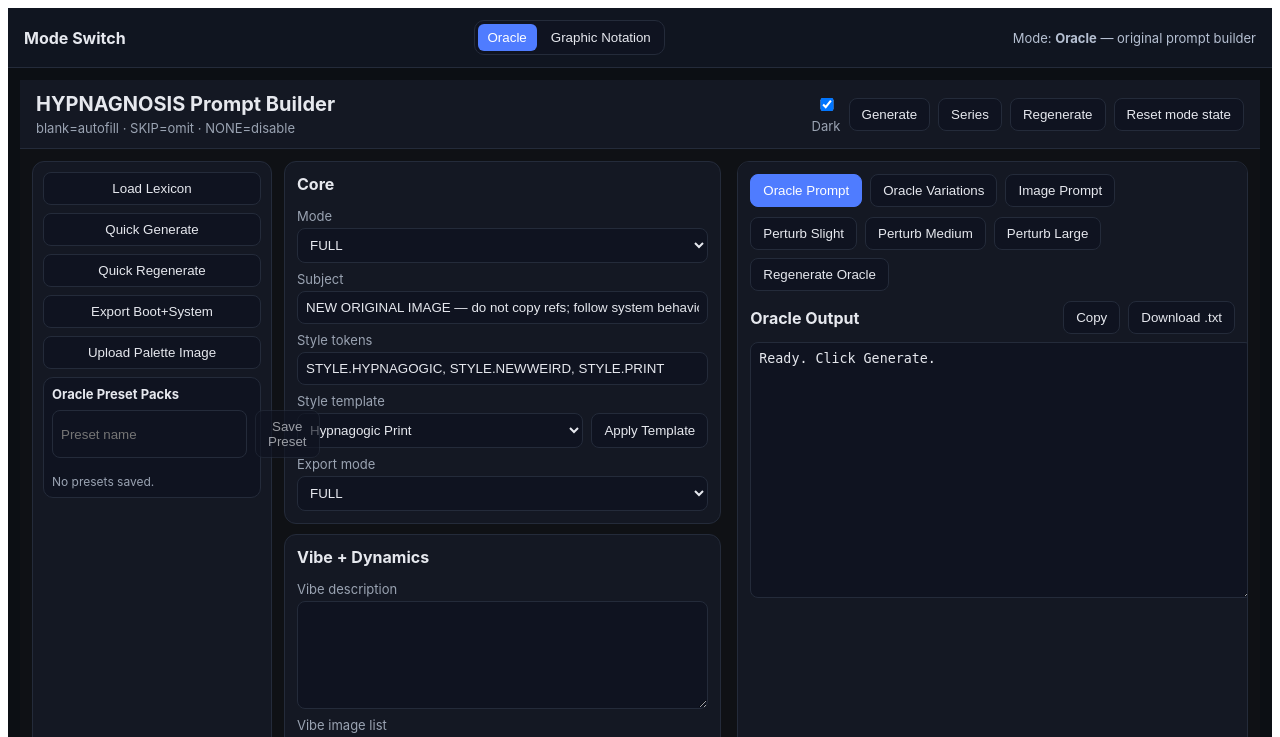
Scenario: HYPNAGNOSIS app shell › keeps Oracle state when switching modes
Replace the text in the field labelled "Subject" with "Persistent Oracle Subject": (503, 308) top-left (297, 291), bottom-right (708, 324)
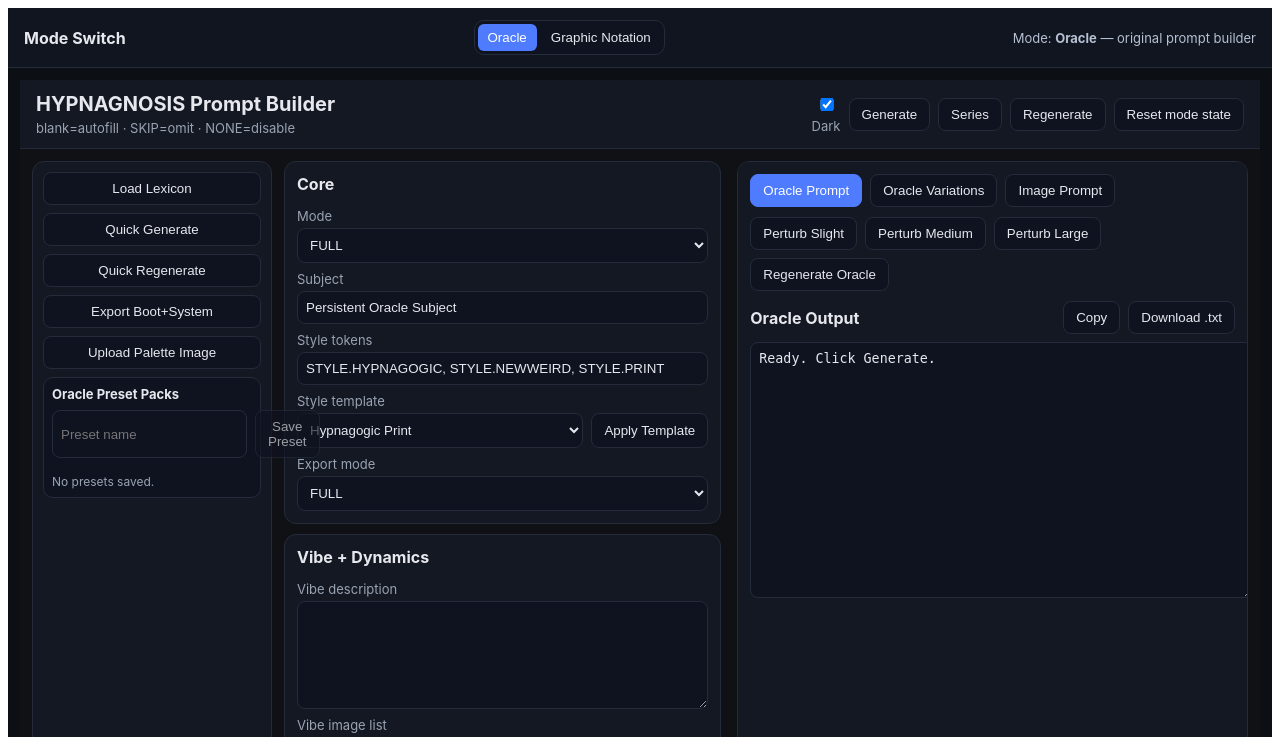
Click the tab "Graphic Notation": (601, 38) top-left (541, 24), bottom-right (661, 51)
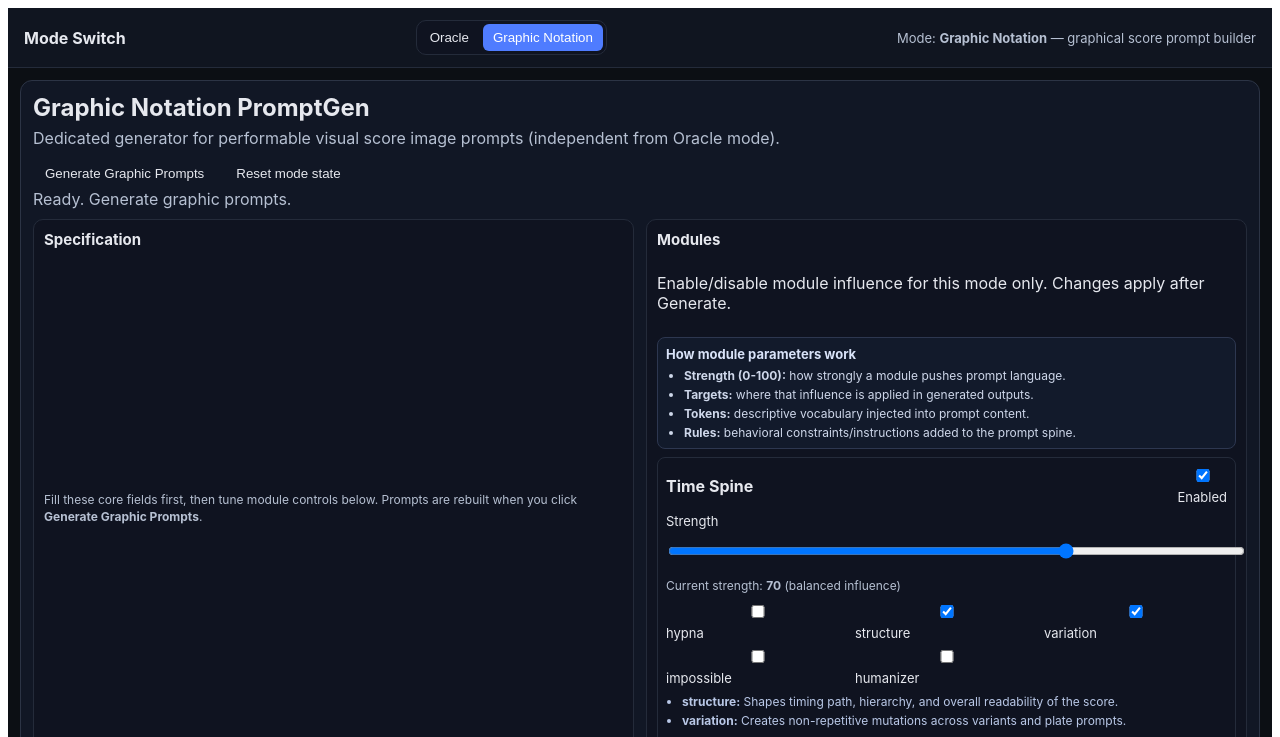
Check: the heading "Graphic Notation PromptGen" is shown, box top-left (33, 93), bottom-right (370, 122)
Click the tab "Oracle": (449, 38) top-left (420, 24), bottom-right (479, 51)
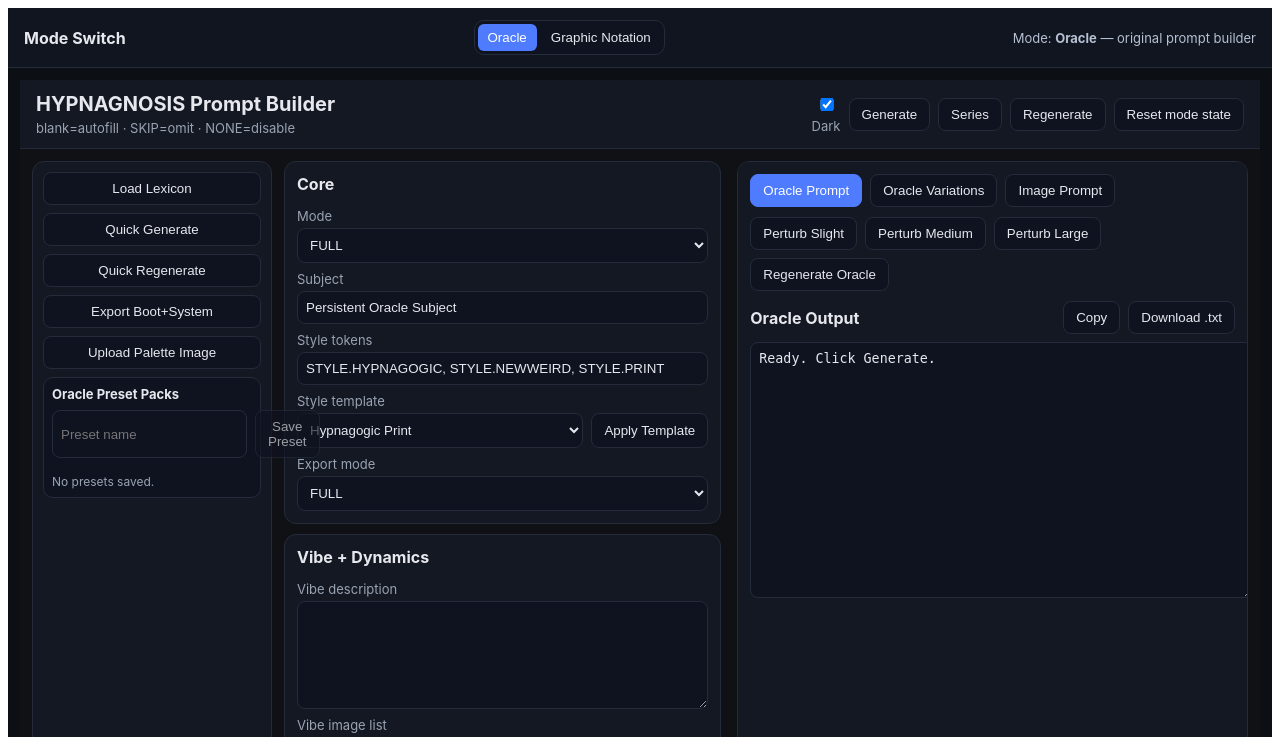
Check: the field labelled "Subject" holds "Persistent Oracle Subject", box top-left (297, 291), bottom-right (708, 324)
